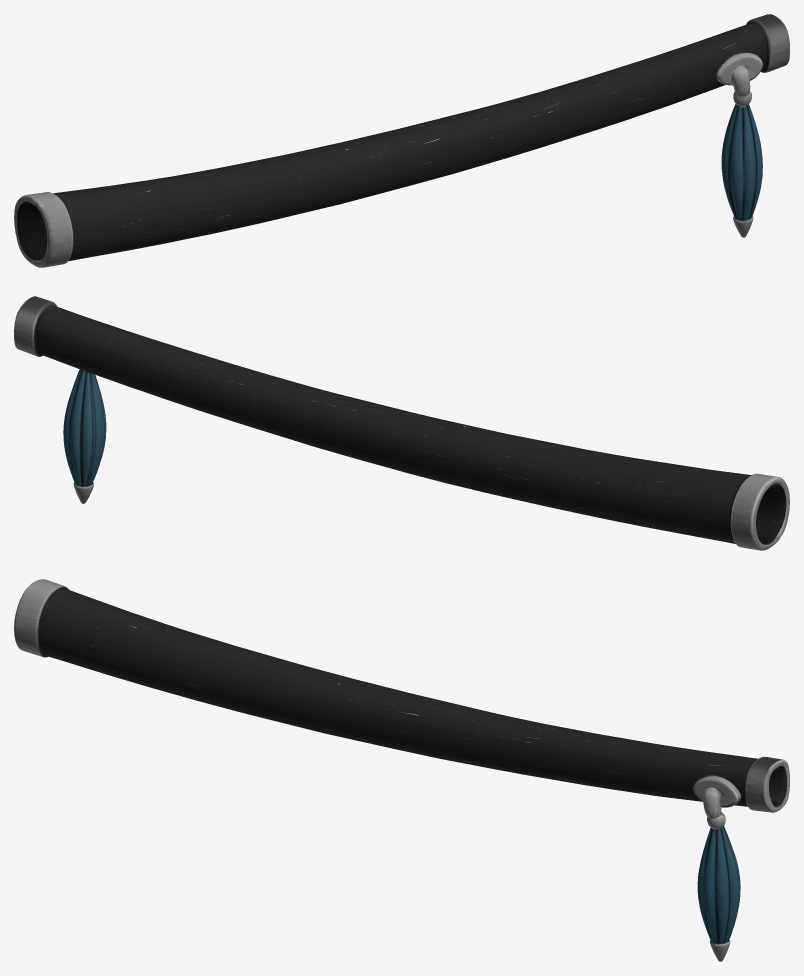
File: scabbard_empty.glb
The picture shows the model from 3 angles, top to bottom: view 1: azimuth 30°, elevation 25°; view 2: azimuth 150°, elevation 25°; view 3: azimuth 330°, elevation 25°; orthographic projection.
Parts seen in each view (by area): view 1: output_unwrapped; view 2: output_unwrapped; view 3: output_unwrapped.
Boxes of the visible parts, x1=… form: output_unwrapped: x1=14, y1=14, x2=789, y2=267; output_unwrapped: x1=14, y1=296, x2=789, y2=550; output_unwrapped: x1=14, y1=579, x2=789, y2=961.
Bounding box in the file's own units: 1.9 × 0.4901 × 0.1808.
Materials: 1 (1 with a texture image).
